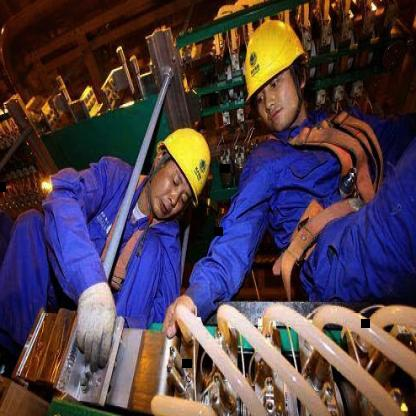helmet: (240, 15, 313, 108), (157, 118, 213, 208)
